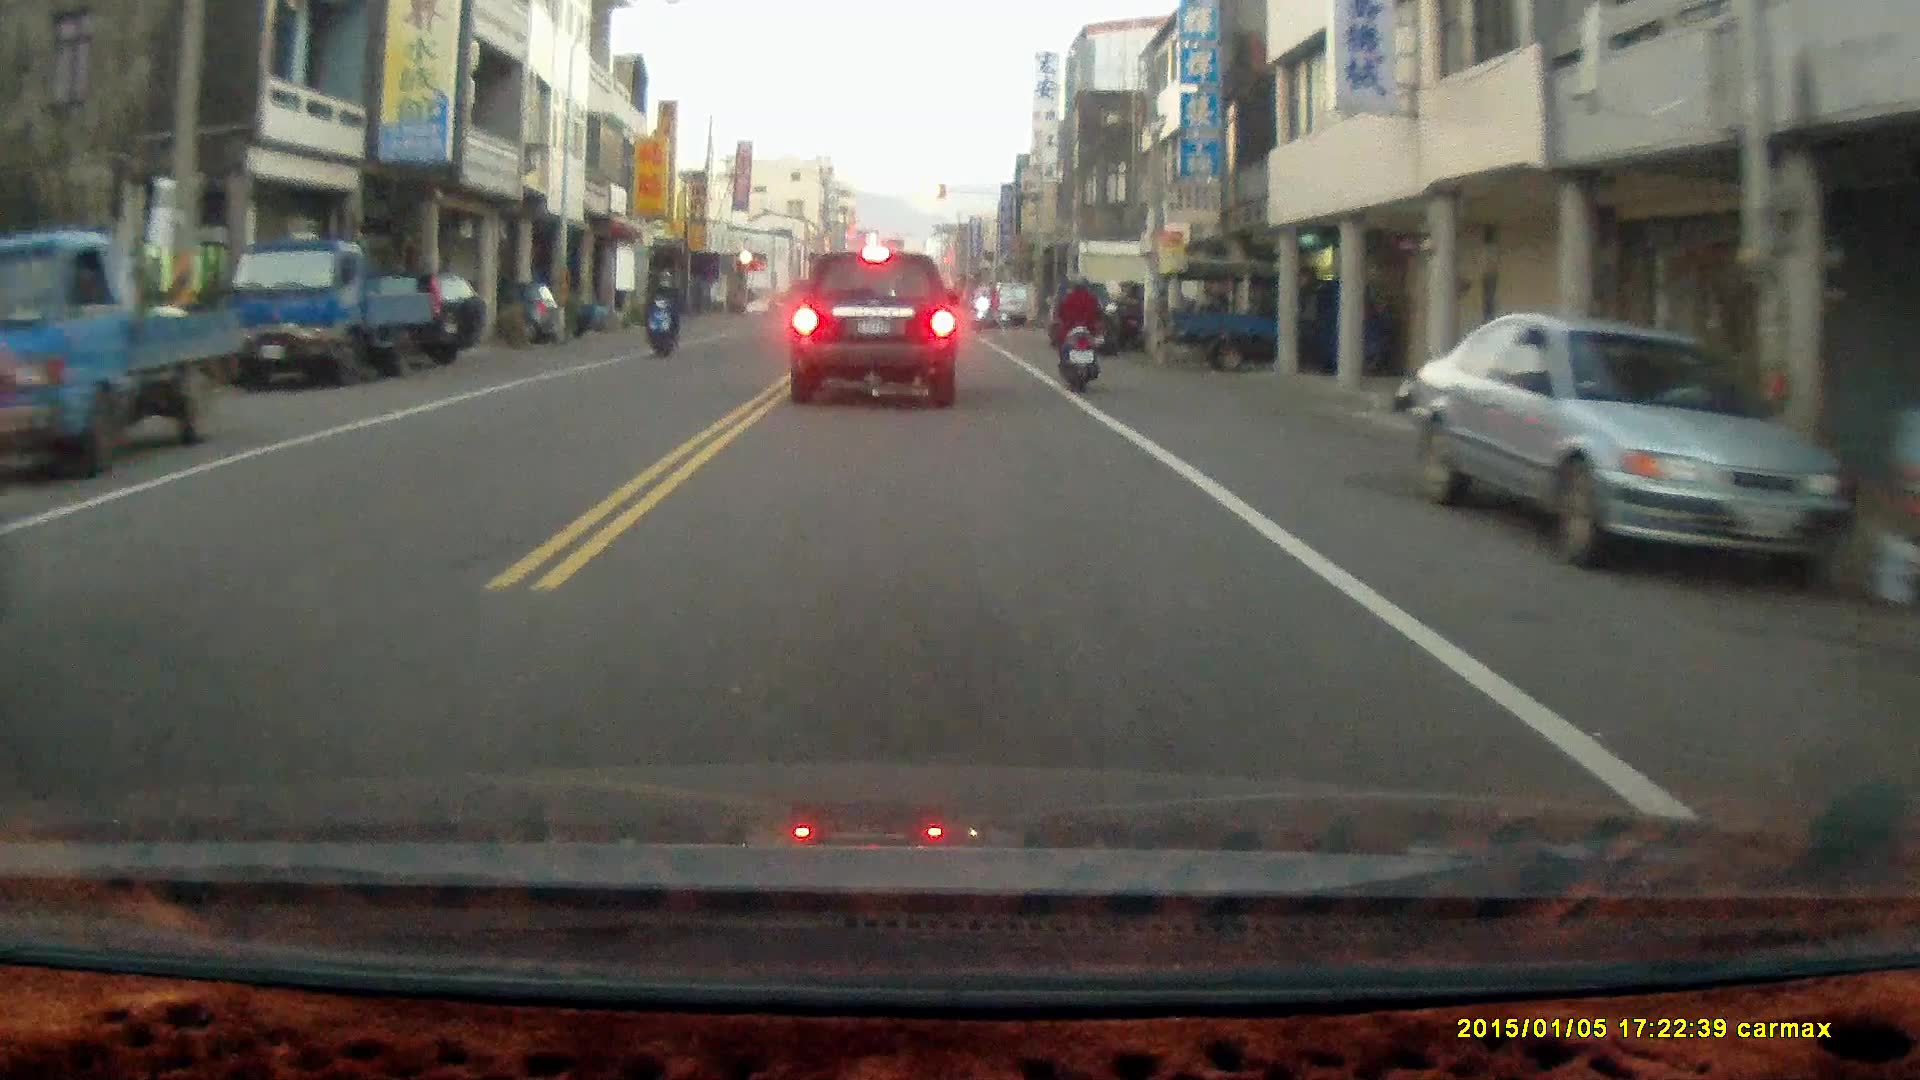rider: (1052, 270, 1102, 393), (641, 267, 683, 359), (970, 280, 1009, 329)
vehicle: (1407, 311, 1864, 586), (1, 234, 252, 473), (1161, 259, 1410, 380), (229, 245, 432, 388), (789, 252, 960, 410)
